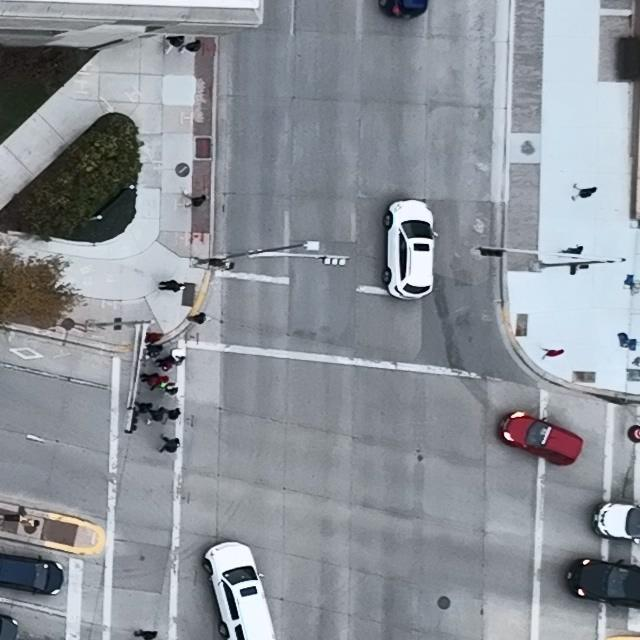car: (204, 541, 276, 640), (382, 199, 439, 300), (497, 411, 582, 465), (566, 557, 640, 610), (0, 553, 64, 595), (592, 503, 640, 543)
